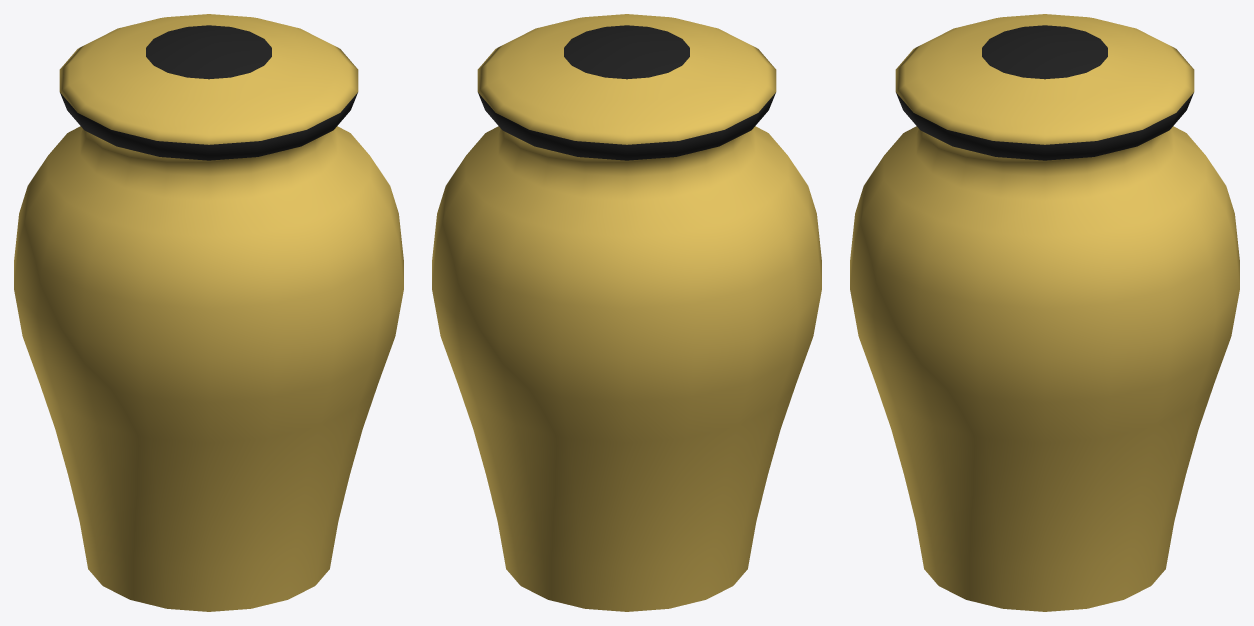
Rendered from Jarron2.fbx.
The picture shows the model from 3 angles, left to right: view 1: azimuth 30°, elevation 25°; view 2: azimuth 150°, elevation 25°; view 3: azimuth 270°, elevation 25°; orthographic projection.
Visible parts, largest first — view 1: Jarron2; view 2: Jarron2; view 3: Jarron2.
Part boxes in pixels (x1=…): Jarron2: x1=14, y1=14, x2=403, y2=611; Jarron2: x1=432, y1=14, x2=821, y2=611; Jarron2: x1=850, y1=14, x2=1239, y2=611.
Size of the model in its own units: 95.33 by 138 by 93.88.
